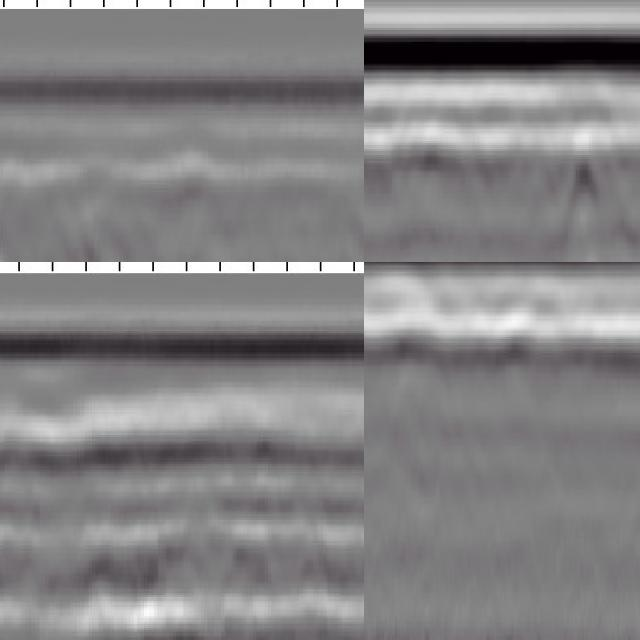crack: (563, 124, 602, 263)
